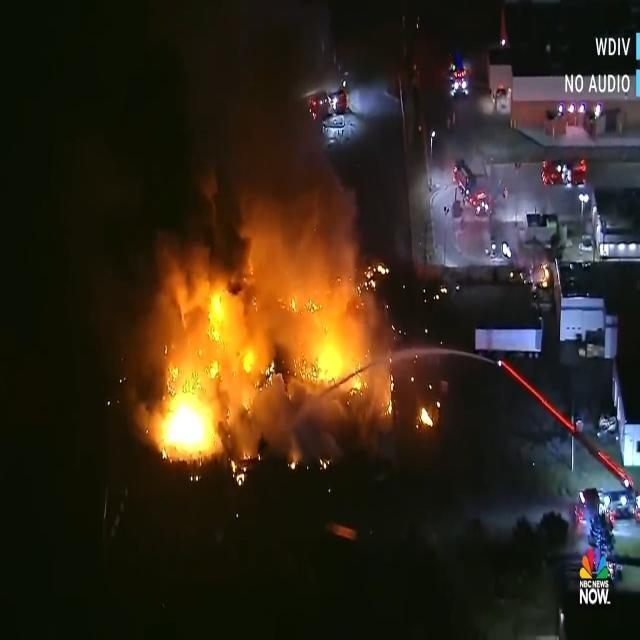fire: (148, 32, 354, 468)
